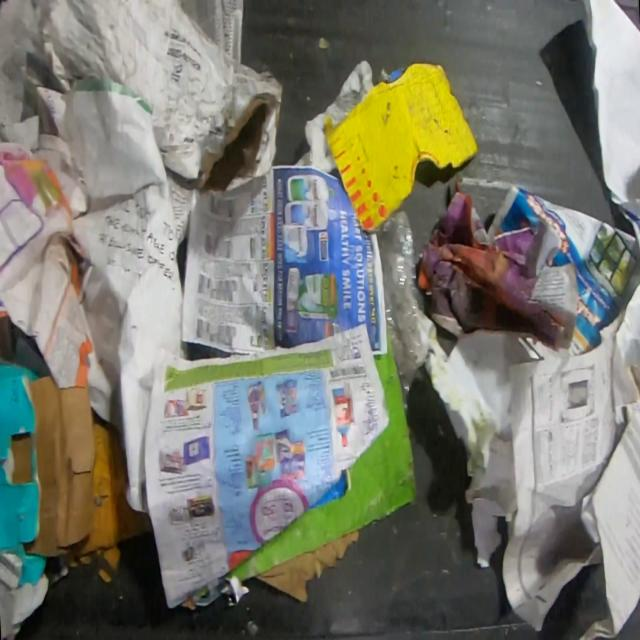cardboard: (219, 332, 416, 604), (38, 0, 286, 192), (323, 62, 480, 234), (0, 356, 97, 588), (64, 406, 153, 583)
soft_plastic: (375, 207, 431, 417)
